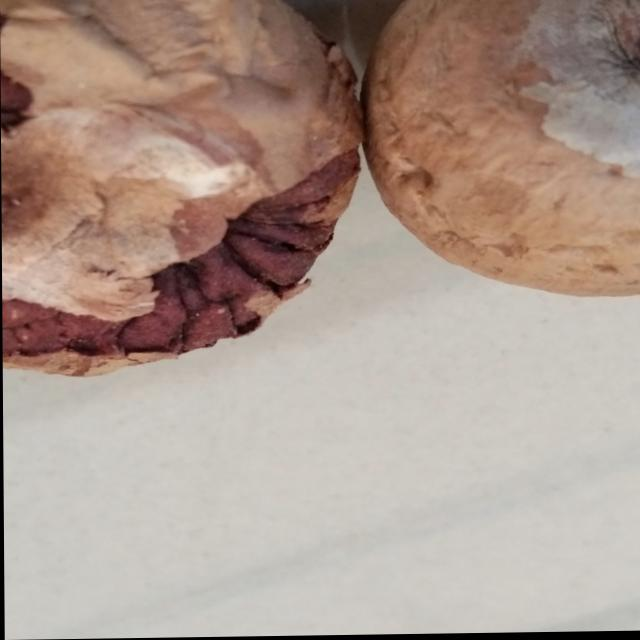good: (350, 0, 640, 303)
karigot: (0, 0, 337, 378)
